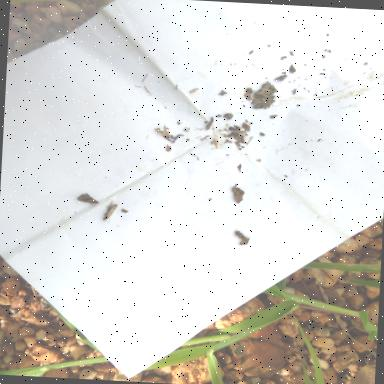pbw: (102, 200, 118, 222)
